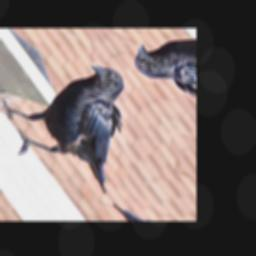Crow: (0, 56, 185, 212)
